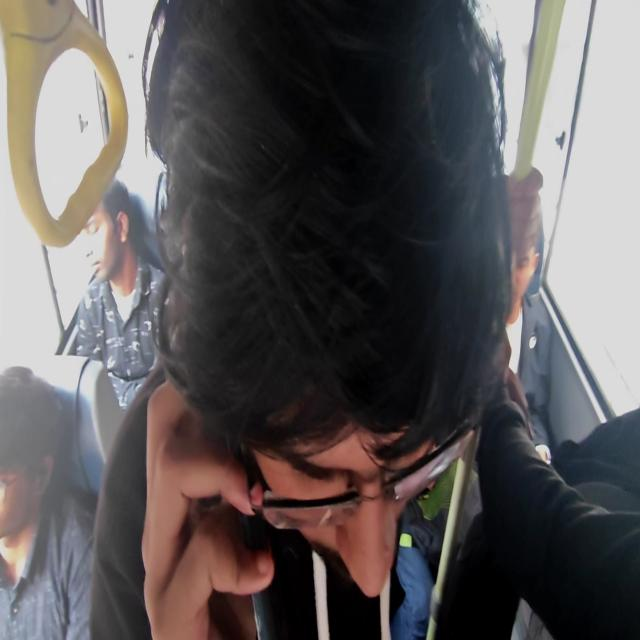person: (88, 0, 515, 638), (435, 163, 639, 638), (0, 364, 96, 638), (56, 177, 167, 412), (502, 163, 553, 458)
